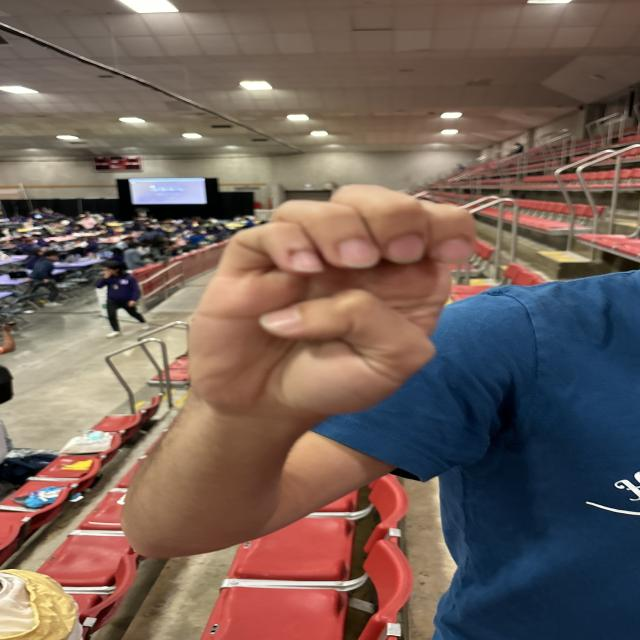E: (130, 173, 497, 414)
